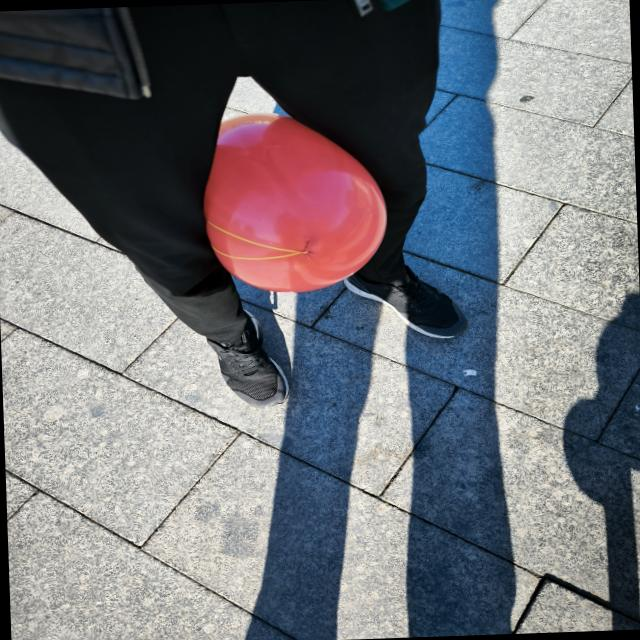balloon: (203, 113, 386, 292)
